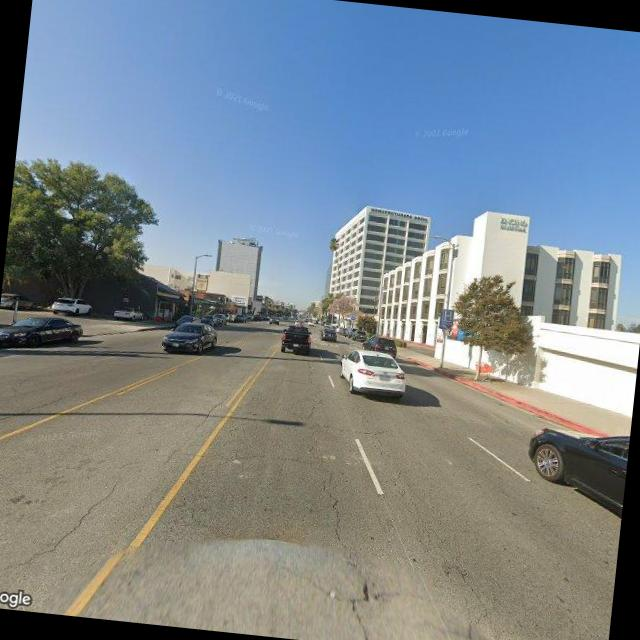pothole: (5, 468, 120, 578), (287, 392, 356, 548), (205, 402, 227, 429)
